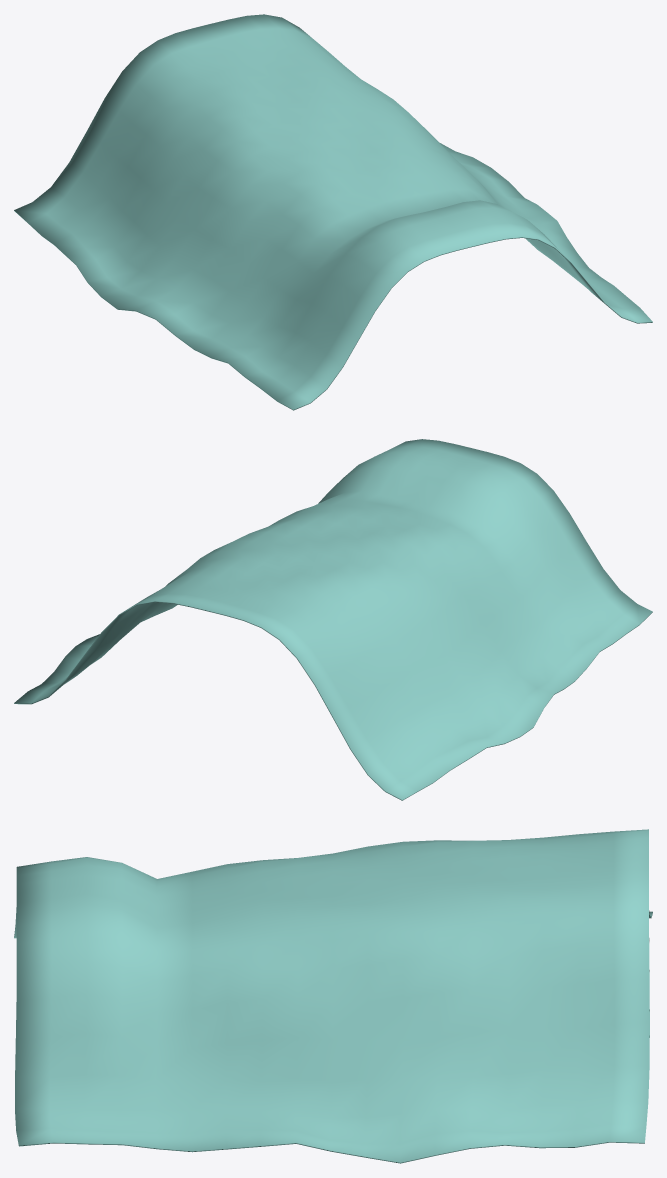
Rendered from people-drape.glb.
The picture shows the model from 3 angles, top to bottom: view 1: azimuth 30°, elevation 25°; view 2: azimuth 150°, elevation 25°; view 3: azimuth 270°, elevation 25°; orthographic projection. The views are drawn at different scales.
Parts seen in each view (by area): view 1: Occupied care drape; view 2: Occupied care drape; view 3: Occupied care drape.
Boxes of the visible parts, left/top/right/bottom form: Occupied care drape: left=14, top=14, right=652, bottom=410; Occupied care drape: left=14, top=439, right=652, bottom=800; Occupied care drape: left=14, top=829, right=652, bottom=1163.
Size of the model in its own units: 1.31 by 0.4519 by 1.42.
